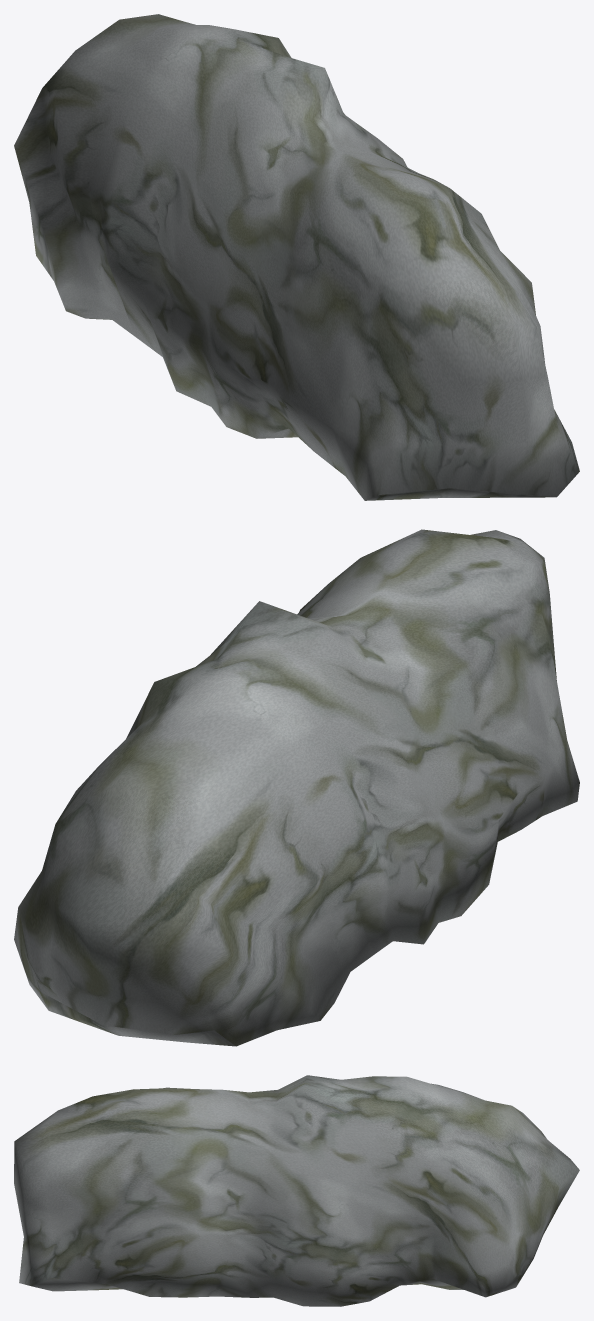
File: Rock_big03.fbx
3 views of the same model, one above another, from view 1: azimuth 30°, elevation 25°; view 2: azimuth 150°, elevation 25°; view 3: azimuth 270°, elevation 25° (orthographic). The views are drawn at different scales.
Parts seen in each view (by area): view 1: Rock_big03; view 2: Rock_big03; view 3: Rock_big03.
Part boxes in pixels (left/top/right/bottom): Rock_big03: left=14, top=14, right=579, bottom=500; Rock_big03: left=14, top=529, right=579, bottom=1046; Rock_big03: left=14, top=1075, right=579, bottom=1306.
Size of the model in its own units: 2.89 by 3.09 by 8.07.
1 material, 1 textured.
